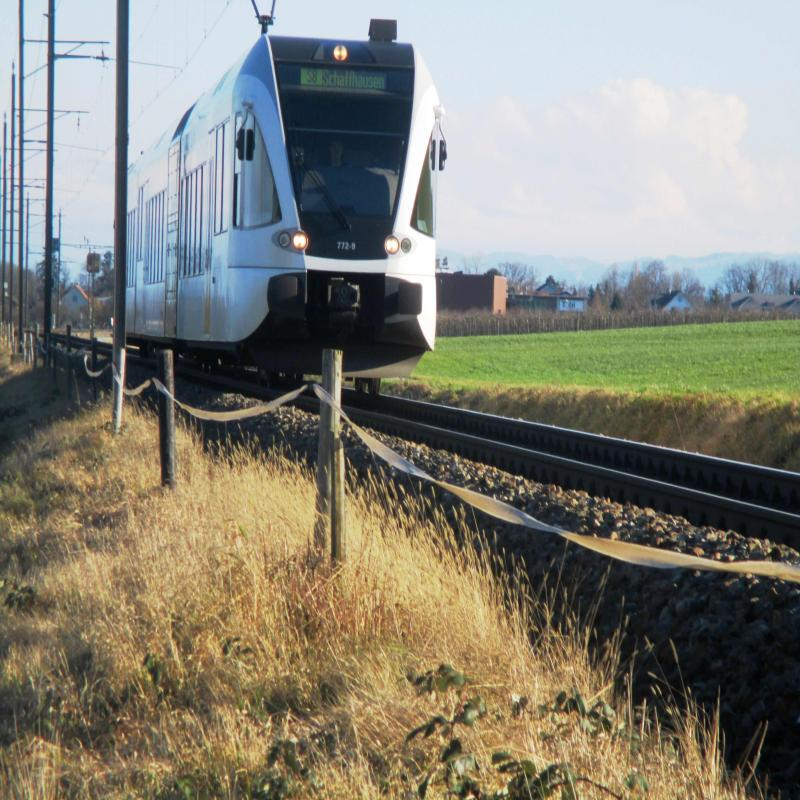train: (124, 56, 442, 392)
